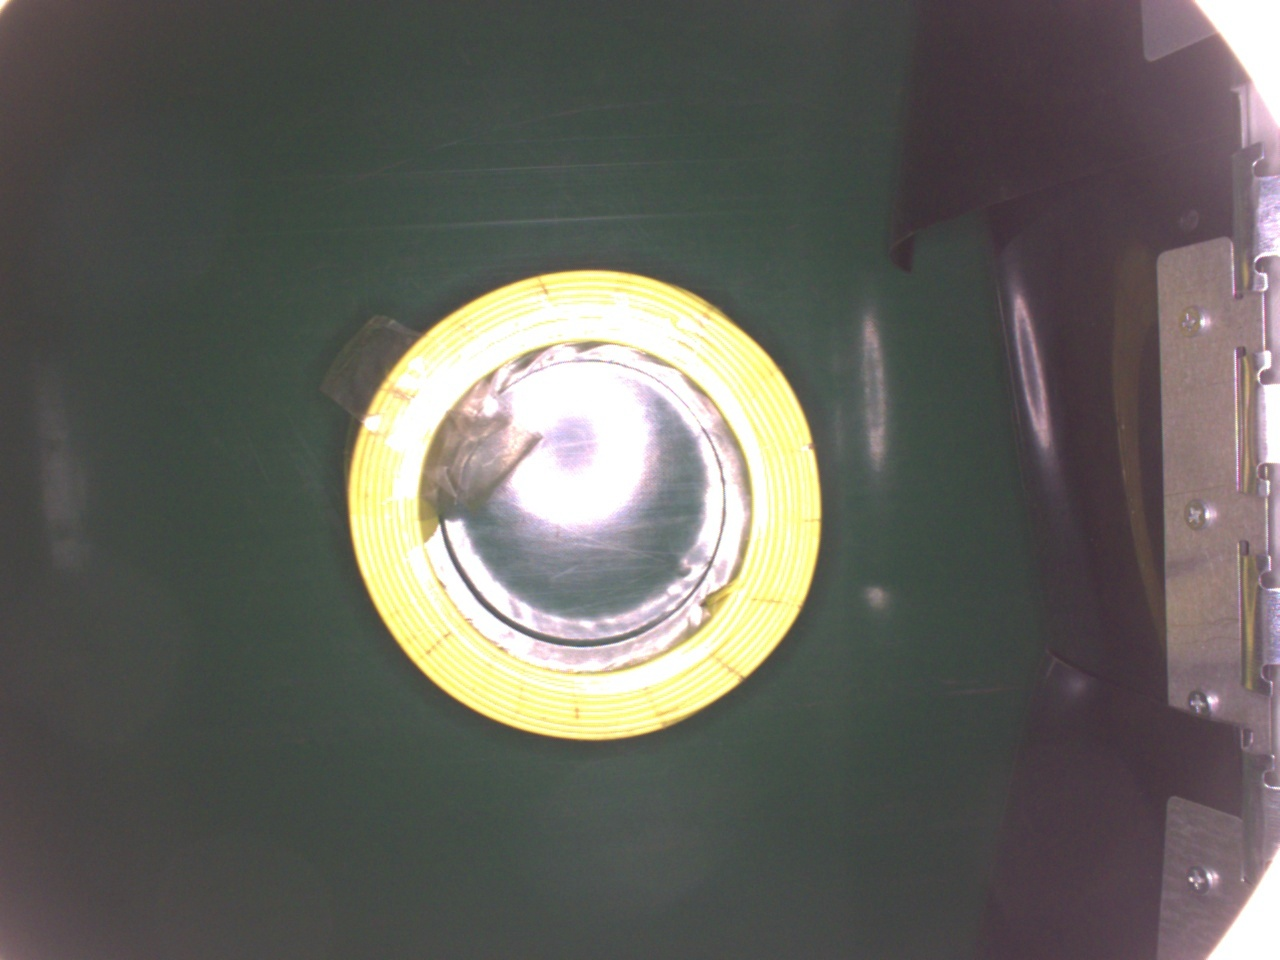yellow: (343, 266, 823, 742)
